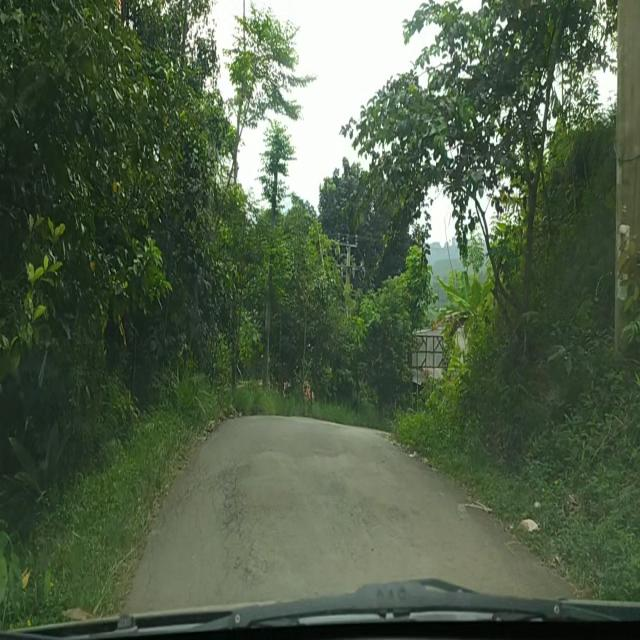Drain Hole: (147, 456, 272, 582)
